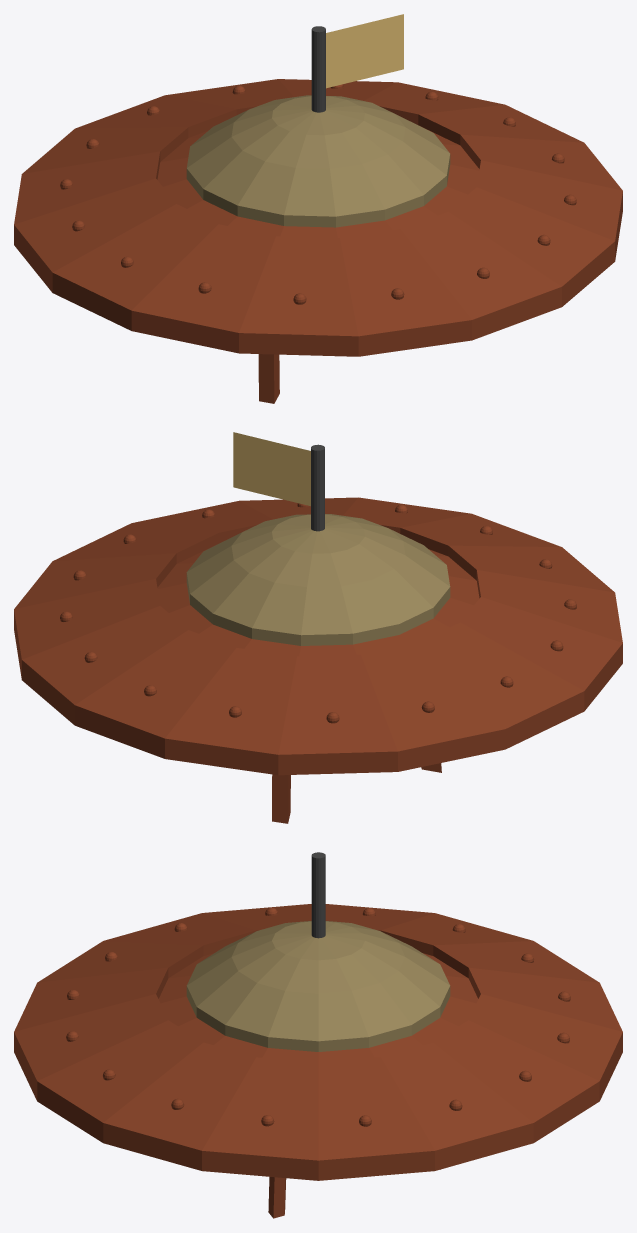
The model's file is ke dich3.fbx.
3 renders of one model, top to bottom at view 1: azimuth 30°, elevation 25°; view 2: azimuth 150°, elevation 25°; view 3: azimuth 270°, elevation 25°, orthographic.
Visible parts, largest first — view 1: Circle.001; view 2: Circle.001; view 3: Circle.001.
Boxes of the visible parts, x1,y1,x2,y2 form: Circle.001: (14, 14, 622, 403); Circle.001: (14, 432, 622, 823); Circle.001: (14, 852, 622, 1218).
Bounding box in the file's own units: 1414 × 829 × 1414.
